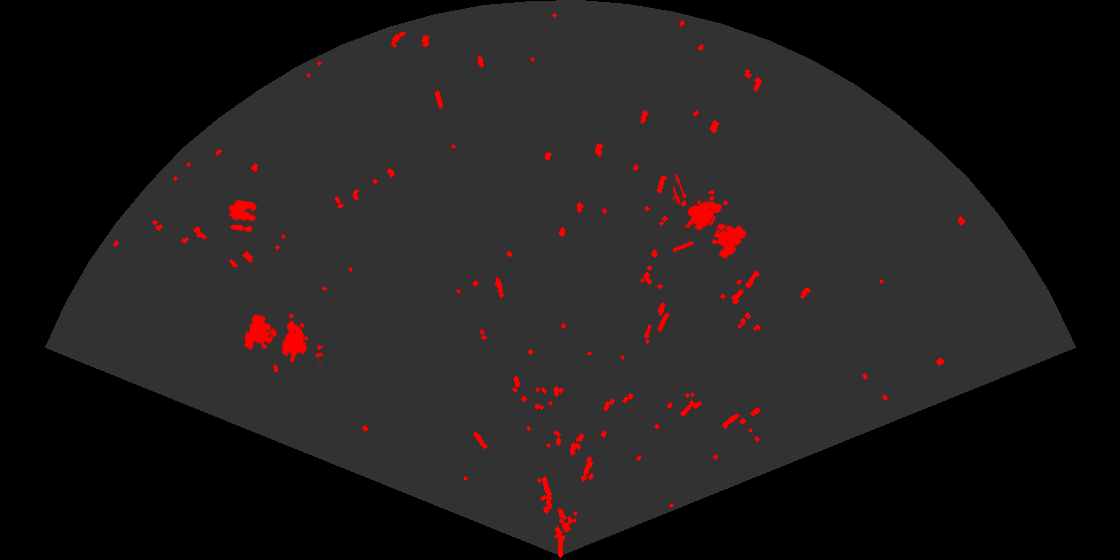ball: (227, 198, 259, 234)
cage: (673, 174, 748, 260), (242, 312, 323, 372)
